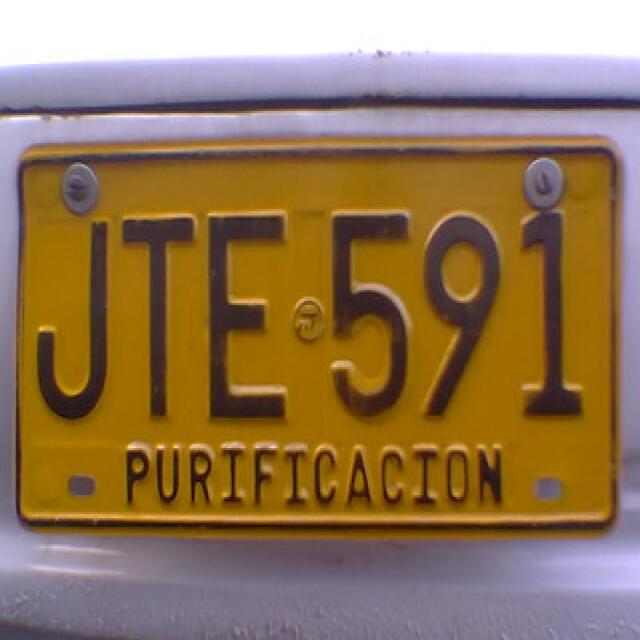placa_carro: (16, 125, 630, 576)
